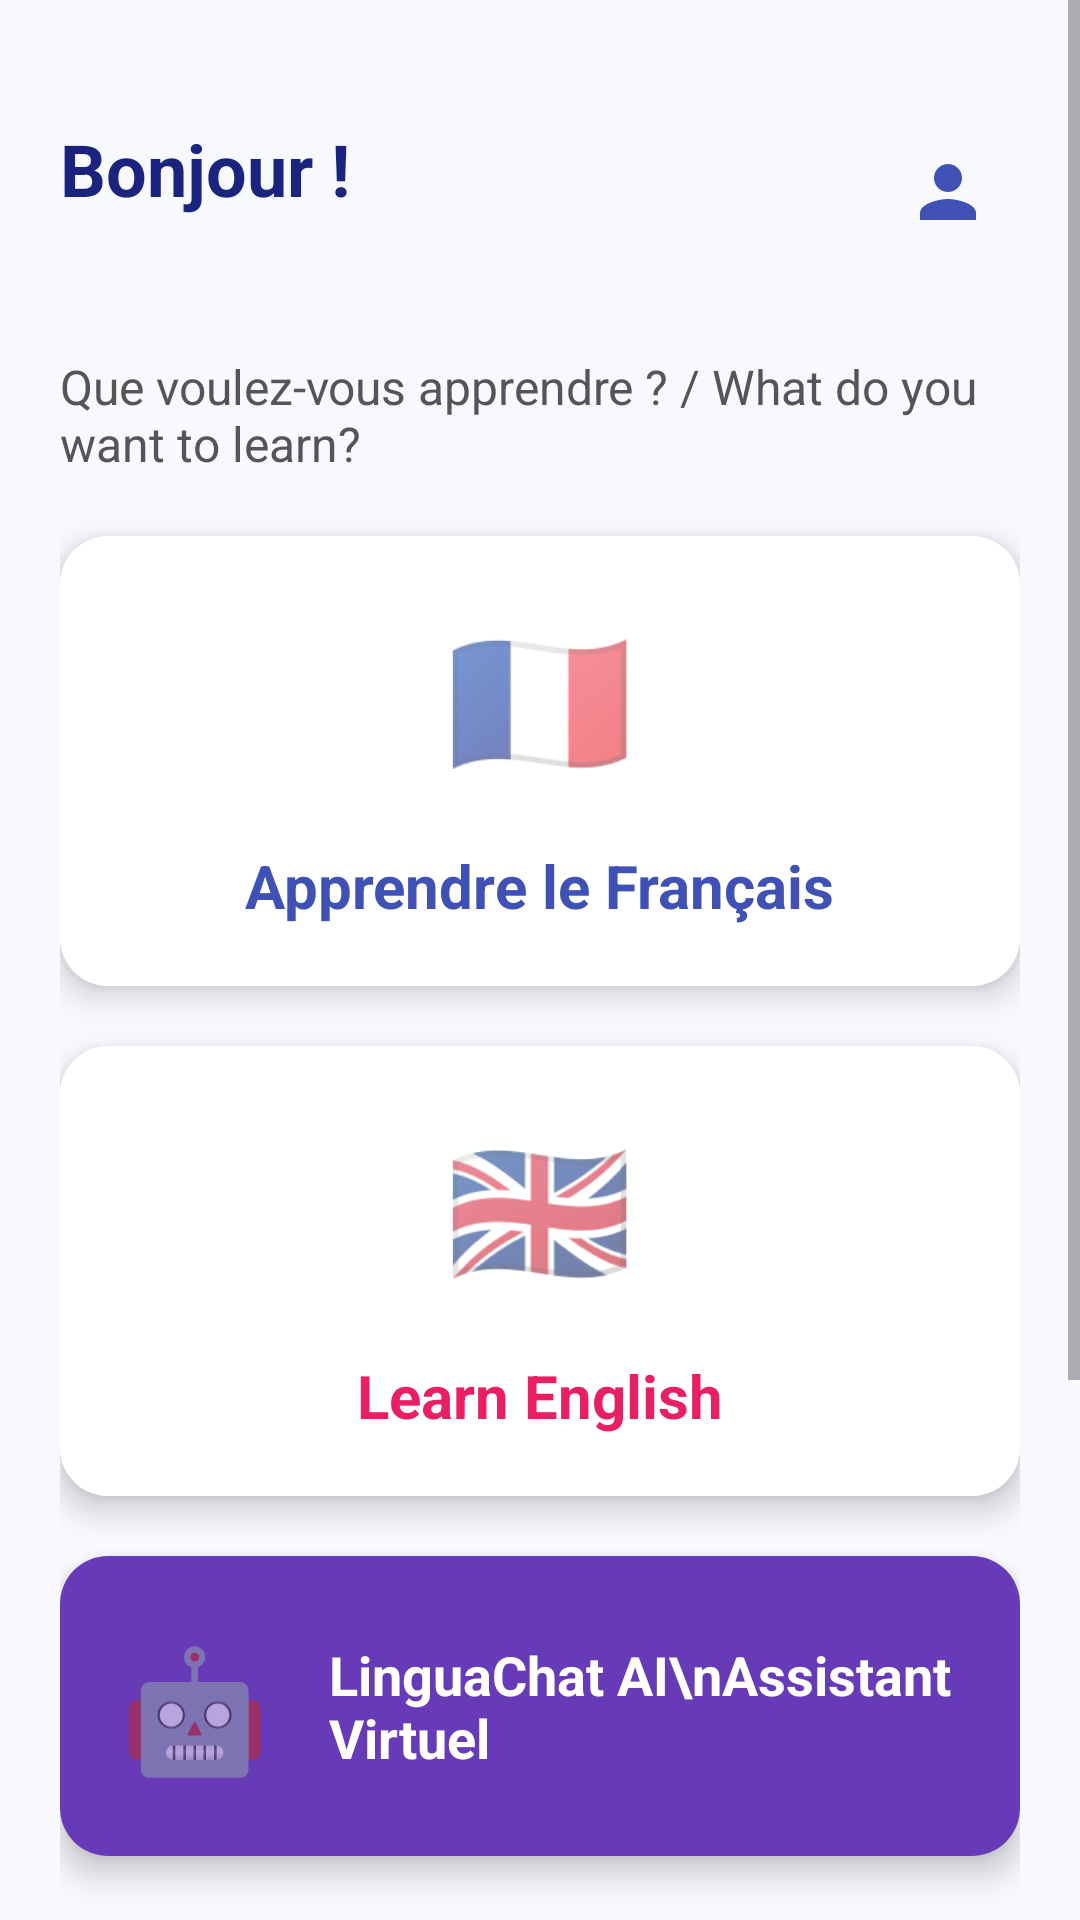

Icon bounding boxes for this 1080w x 1920h phone screenshot, format (x1, y1, x2, y2):
person: (920, 164, 976, 220)
